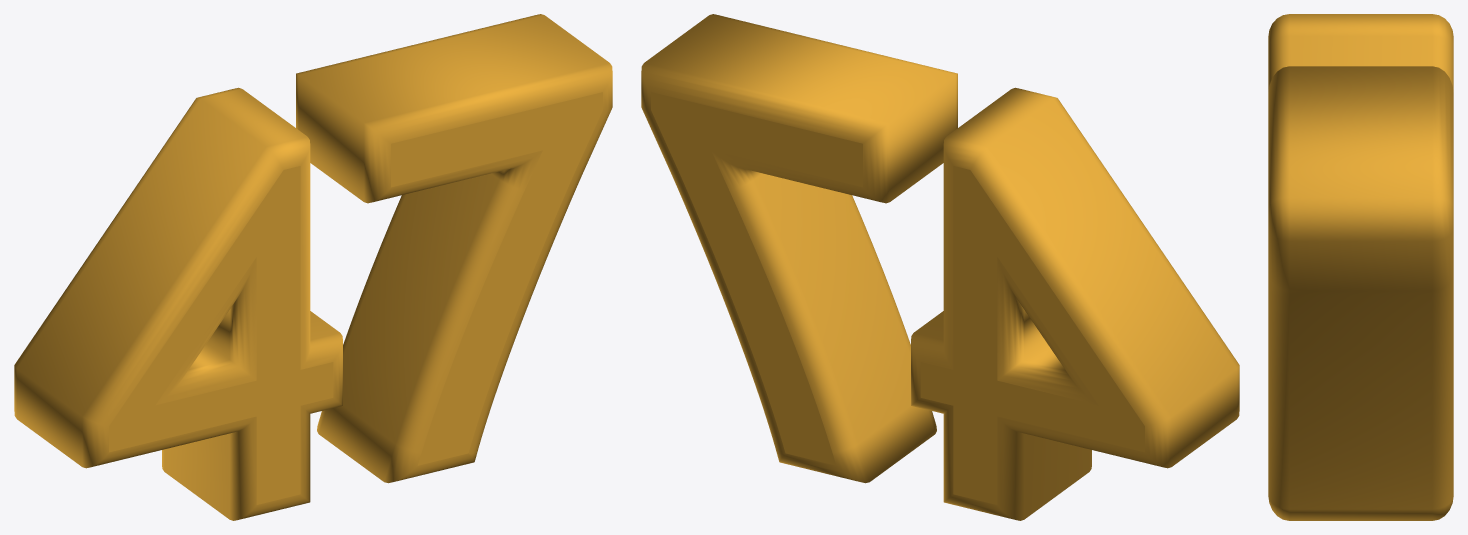
The picture shows the model from 3 angles, left to right: view 1: azimuth 30°, elevation 25°; view 2: azimuth 150°, elevation 25°; view 3: azimuth 270°, elevation 25°; orthographic projection. The views are drawn at different scales.
Visible parts, largest first — view 1: Text; view 2: Text; view 3: Text.
Part boxes in pixels (box(x1,y1,x2,y2)): Text: box(14, 14, 612, 520); Text: box(641, 14, 1239, 520); Text: box(1268, 14, 1453, 520).
Size of the model in its own units: 93.22 by 61.46 by 26.
